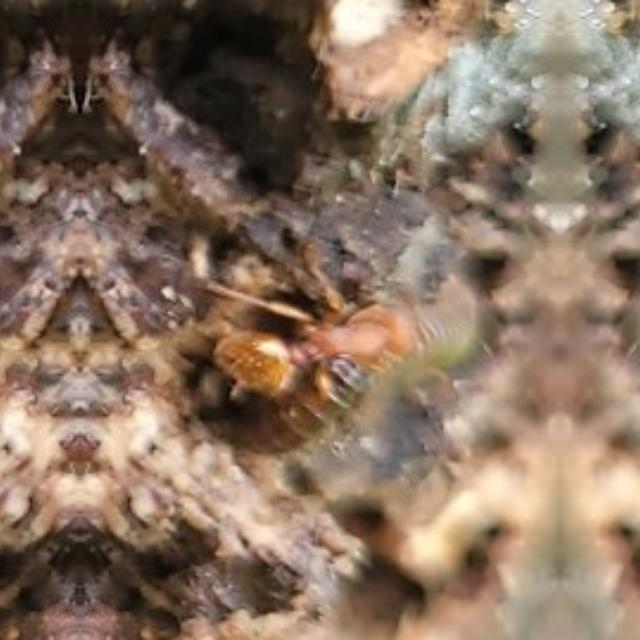Myrmica: (205, 260, 417, 398)
